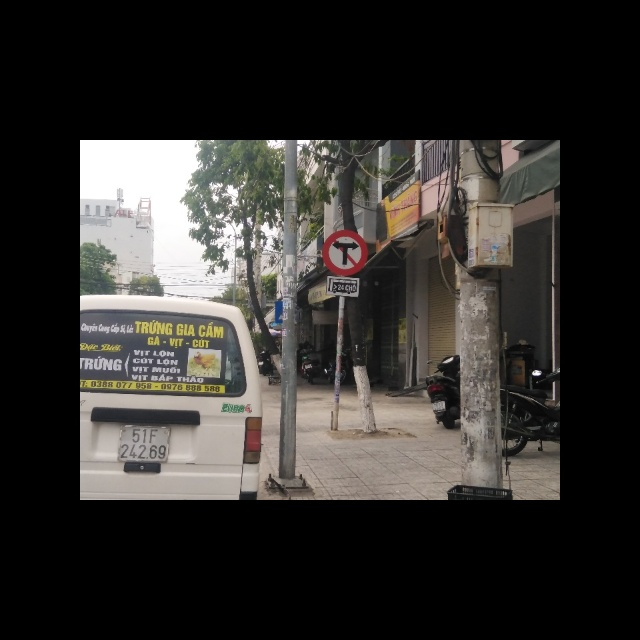Cấm rẽ trái và rẽ phải: (320, 230, 367, 277)
